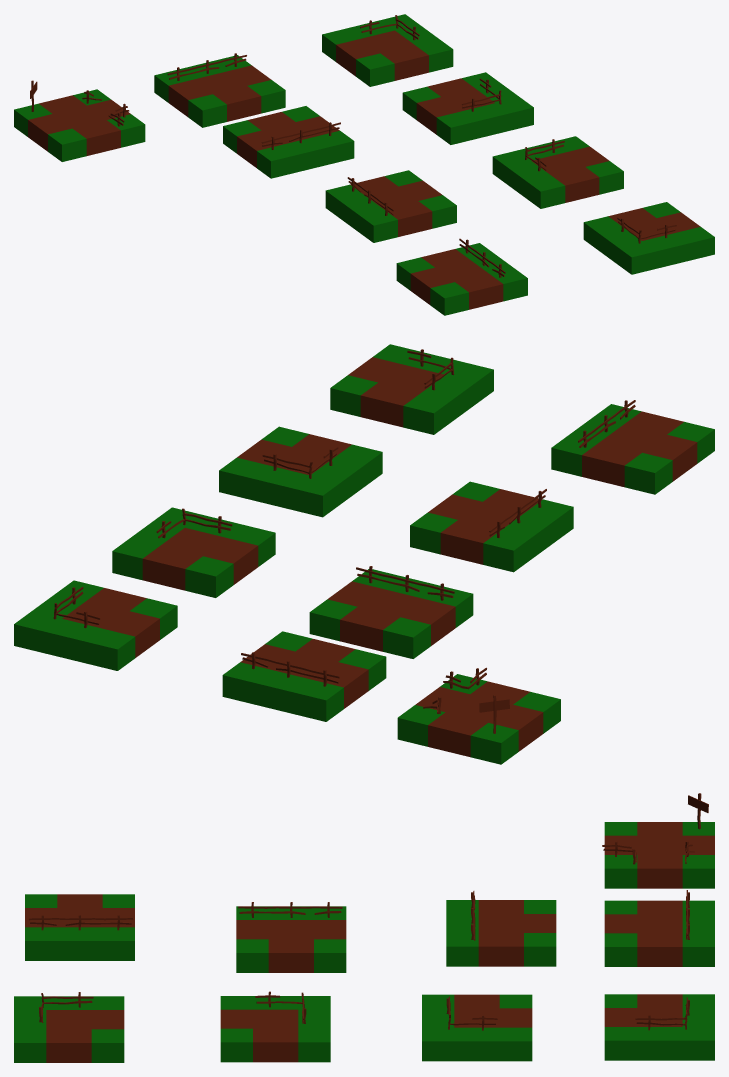
Rendered from TileSetCorrection(Roads).FBX.
3 views of the same model, one above another, from view 1: azimuth 30°, elevation 25°; view 2: azimuth 150°, elevation 25°; view 3: azimuth 270°, elevation 25° (orthographic). The views are drawn at different scales.
Visible parts, largest first — view 1: RoadT002, RoadQuad, RoadT003, RoadCorner, RoadCorner002, RoadCorner003, RoadCorner001, RoadT, RoadT001; view 2: RoadT003, RoadT002, RoadCorner003, RoadCorner, RoadCorner001, RoadCorner002, RoadT001, RoadT, RoadQuad, Object005, Object006, Object003; view 3: RoadCorner001, RoadT, RoadT001, RoadCorner002, RoadQuad, RoadCorner, RoadCorner003, RoadT002, RoadT003, Object008, Object005, Object010.
Boxes of the visible parts, x1,y1,x2,y2 form: RoadT002: (325,170,456,242); RoadQuad: (14,89,145,161); RoadT003: (396,243,527,315); RoadCorner: (322,14,453,86); RoadCorner002: (492,136,623,208); RoadCorner003: (583,202,714,274); RoadCorner001: (402,72,533,144); RoadT: (154,55,285,127); RoadT001: (223,106,354,178); RoadT003: (551,404,714,494); RoadT002: (410,481,573,572); RoadCorner003: (330,344,493,434); RoadCorner: (14,580,177,670); RoadCorner001: (112,507,275,597); RoadCorner002: (219,426,382,517); RoadT001: (309,569,473,658); RoadT: (222,631,386,721); RoadQuad: (397,674,560,764); Object005: (423,667,509,733); Object006: (356,566,454,600); Object003: (241,652,339,686); RoadCorner001: (422,994,532,1061); RoadT: (604,900,714,966); RoadT001: (446,900,556,966); RoadCorner002: (220,996,330,1062); RoadQuad: (604,822,714,888); RoadCorner: (604,994,714,1060); RoadCorner003: (14,996,124,1062); RoadT002: (236,906,346,972); RoadT003: (25,894,134,960); Object008: (238,902,342,917); Object005: (602,793,708,864); Object010: (28,914,133,930).
Size of the model in its own units: 4744 by 550 by 6362.
